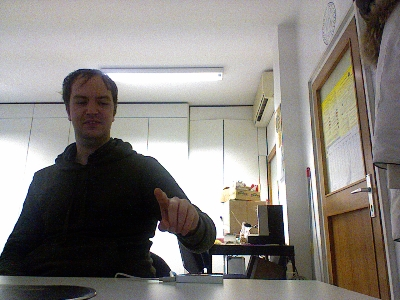食指: (152, 186, 199, 236)
